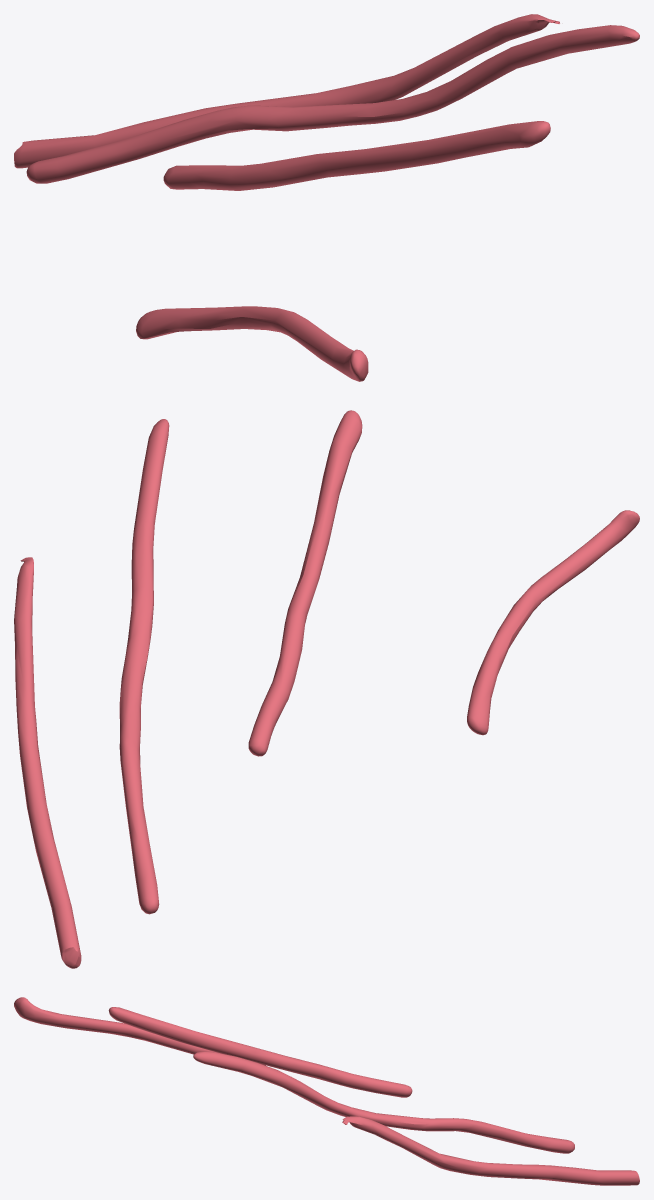
The model's file is fma70922_fj2119.glb.
3 renders of one model, top to bottom at view 1: azimuth 30°, elevation 25°; view 2: azimuth 150°, elevation 25°; view 3: azimuth 270°, elevation 25°, orthographic. The views are drawn at different scales.
Parts seen in each view (by area): view 1: FMA70922_FJ2119; view 2: FMA70922_FJ2119; view 3: FMA70922_FJ2119.
Boxes of the visible parts, x1,y1,x2,y2 form: FMA70922_FJ2119: (14, 14, 639, 381); FMA70922_FJ2119: (14, 410, 639, 968); FMA70922_FJ2119: (14, 997, 639, 1185).
Bounding box in the file's own units: 0.0338 × 0.0222 × 0.0611.
